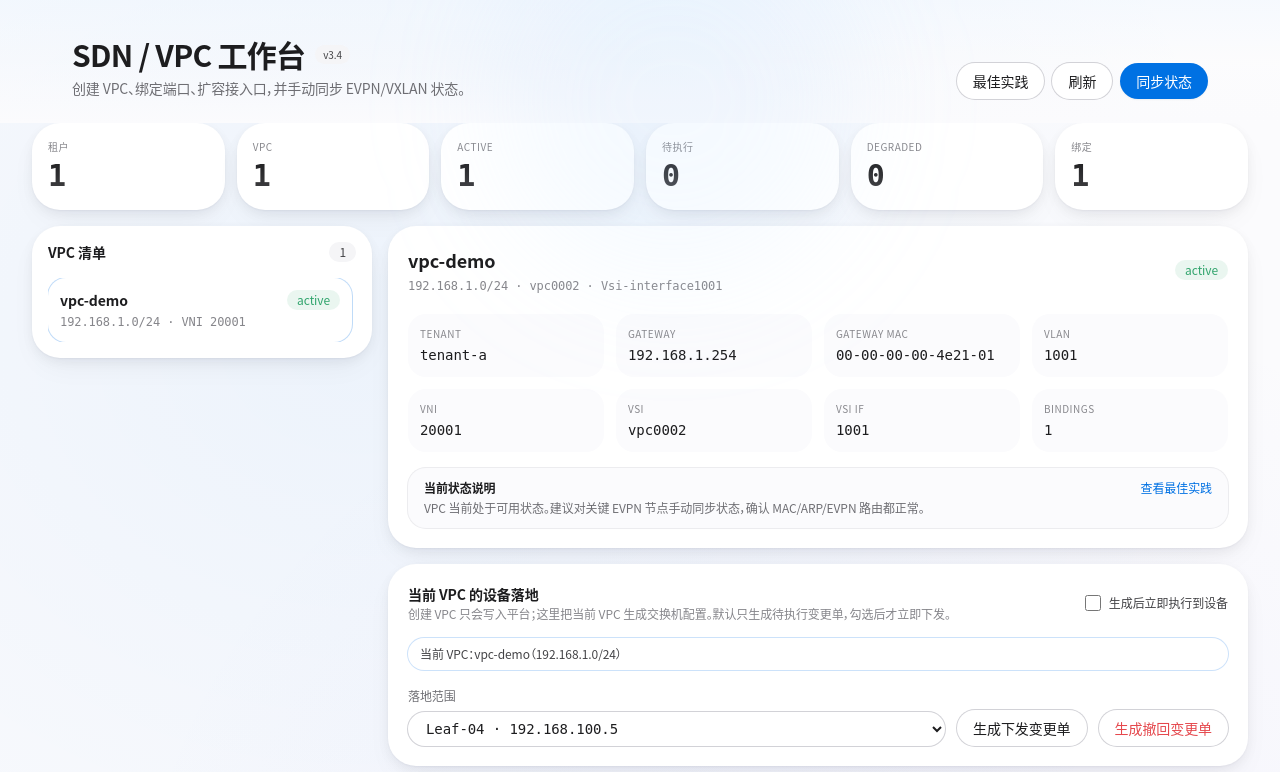
Test: SdnVpcWorkspace.vue › requests a VPC deploy change for selected EVPN node
Click the button "生成下发变更单" at (1022, 728), box 957,710 -> 1087,746
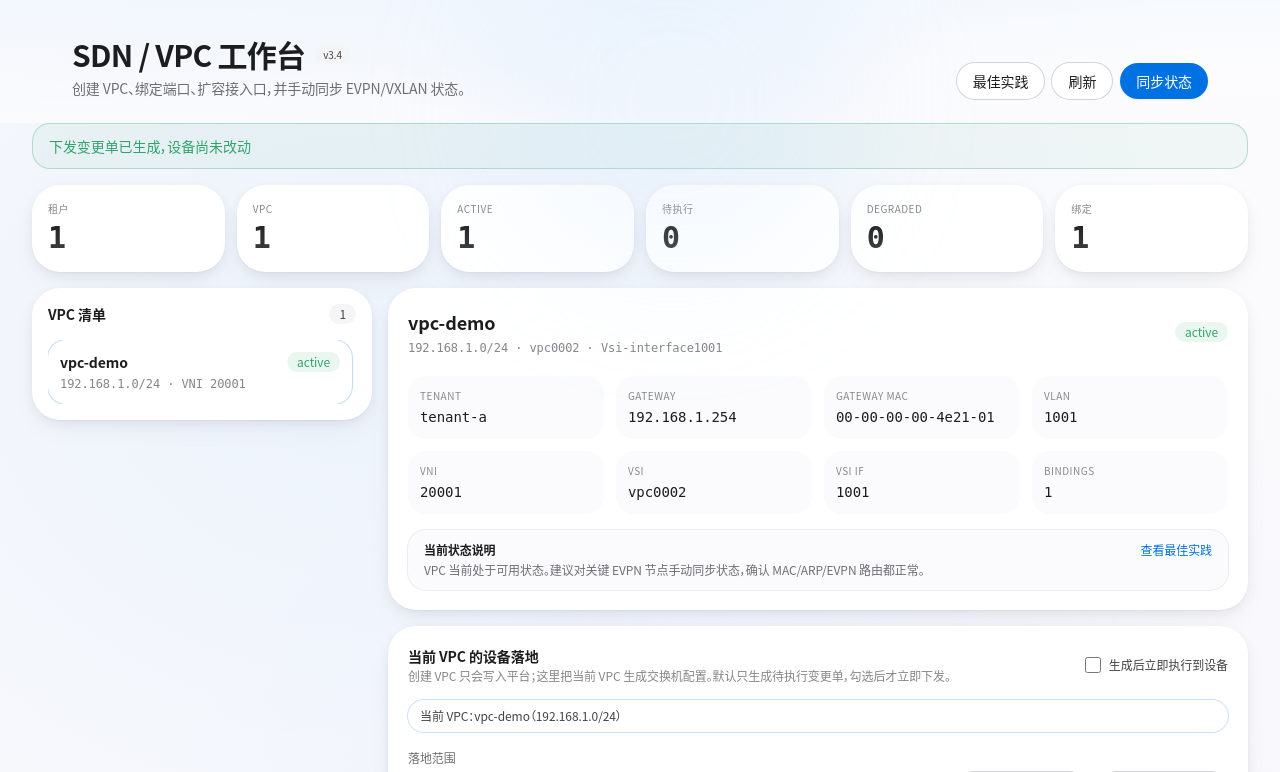
Check: the text "下发变更单已生成，设备尚未改动" is shown, box 32,122 -> 1248,168
